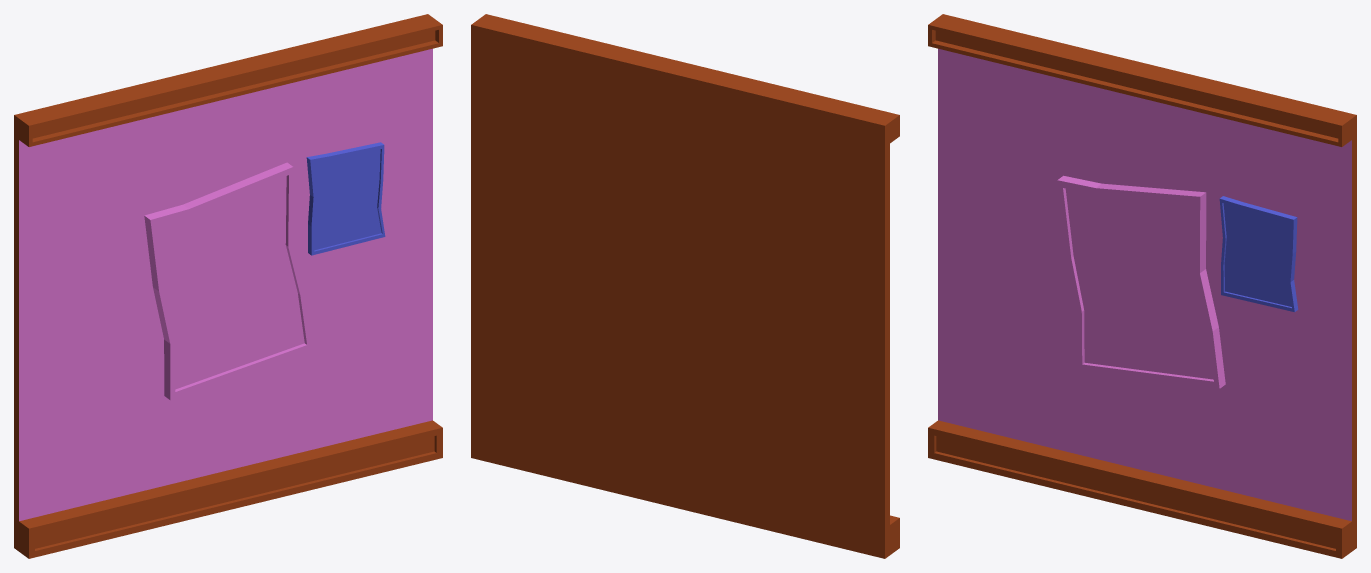
Rendered from X_chambres.fbx.
3 renders of one model, left to right at view 1: azimuth 30°, elevation 25°; view 2: azimuth 150°, elevation 25°; view 3: azimuth 330°, elevation 25°, orthographic.
Parts seen in each view (by area): view 1: X_chambres; view 2: X_chambres; view 3: X_chambres.
Part boxes in pixels (x1,y1,x2,y2): X_chambres: (14, 14, 442, 558); X_chambres: (471, 14, 899, 558); X_chambres: (928, 14, 1356, 558).
Bounding box in the file's own units: 600 × 600 × 37.16.
